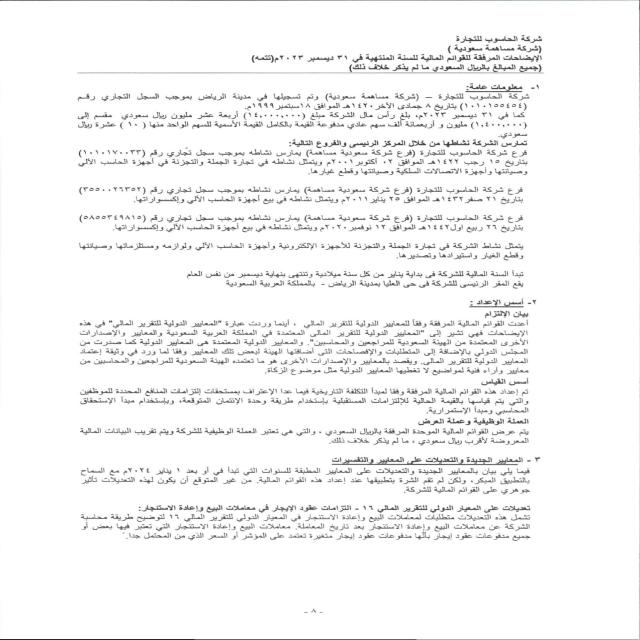notes: (417, 53, 546, 63)
text: (52, 77, 544, 567)
